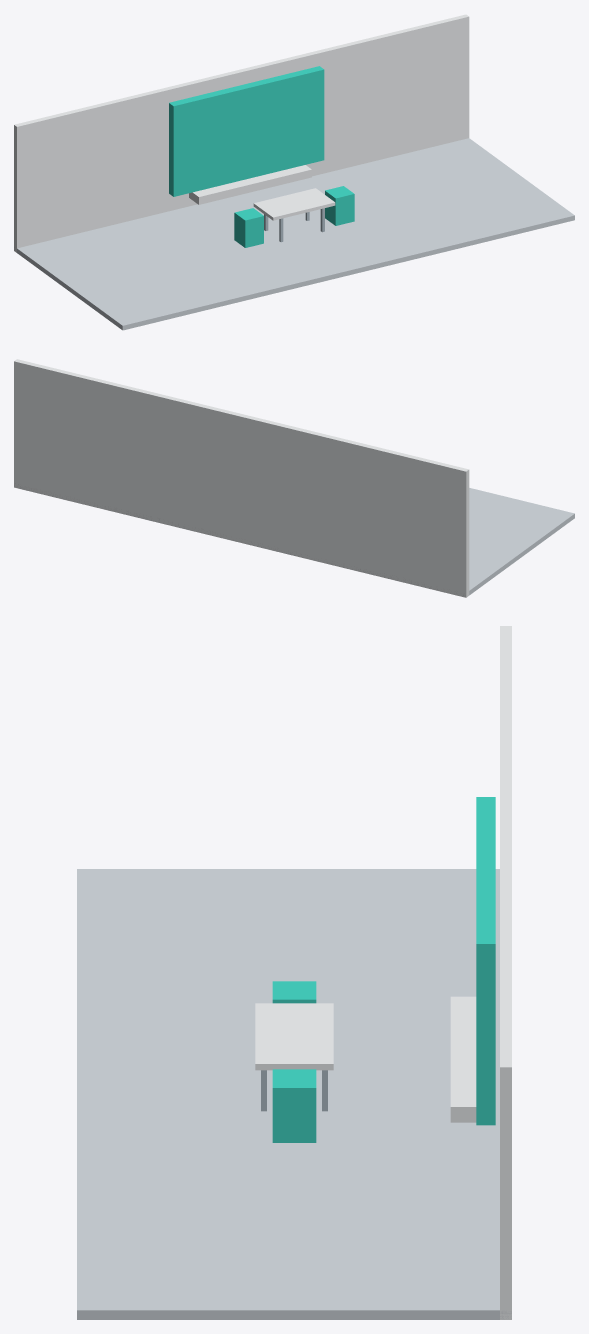
The picture shows the model from 3 angles, top to bottom: view 1: azimuth 30°, elevation 25°; view 2: azimuth 150°, elevation 25°; view 3: azimuth 270°, elevation 25°; orthographic projection. The views are drawn at different scales.
Parts seen in each view (by area): view 1: Exhibition Booth Concept; view 2: Exhibition Booth Concept; view 3: Exhibition Booth Concept.
Boxes of the visible parts, box(x1,y1,x2,y2) form: Exhibition Booth Concept: box(14, 14, 574, 330); Exhibition Booth Concept: box(14, 359, 574, 597); Exhibition Booth Concept: box(77, 626, 511, 1319).
Size of the model in its own units: 12 by 3.2 by 5.
